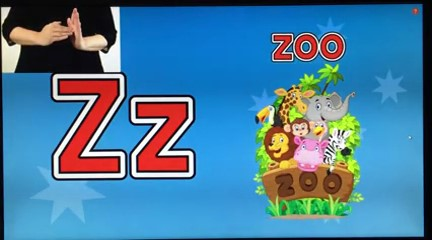Z: (32, 3, 100, 55)
